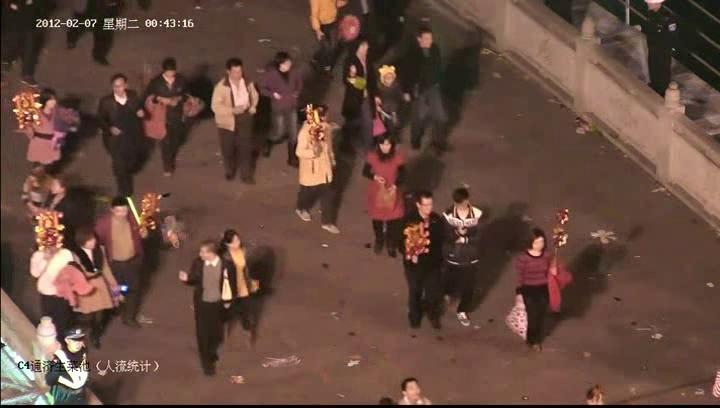person: (91, 196, 166, 332), (504, 212, 571, 353), (393, 185, 444, 330), (71, 231, 132, 348), (98, 74, 154, 201), (438, 191, 493, 320), (208, 55, 263, 183), (406, 25, 461, 152), (218, 228, 274, 351), (181, 242, 230, 379), (146, 55, 200, 177), (293, 106, 344, 234), (256, 44, 305, 171), (26, 222, 75, 346), (211, 58, 259, 182), (362, 134, 407, 260), (26, 87, 75, 179), (0, 1, 50, 89), (344, 35, 380, 149), (43, 328, 92, 408), (64, 1, 118, 67), (303, 0, 347, 78), (393, 379, 448, 408)
